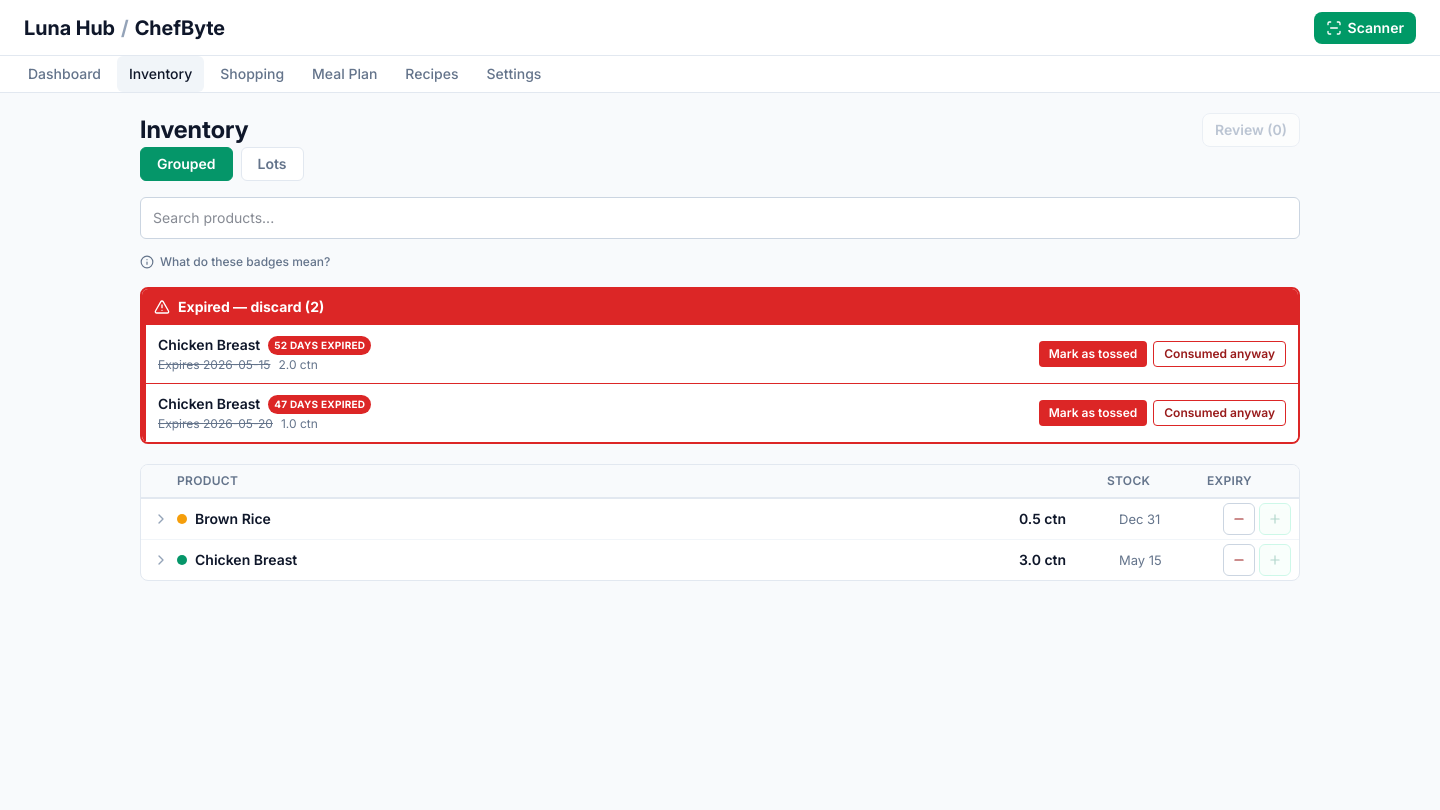
Test: InventoryPage — lot-view per-row rendering › each stock_lots row appears as a distinct lot-row element
Expected: the element with test id "inventory-view-toggle" is shown, 140,147 -> 304,181
Click the button "Lots".
click(272, 164)  # box 241,147 -> 304,181
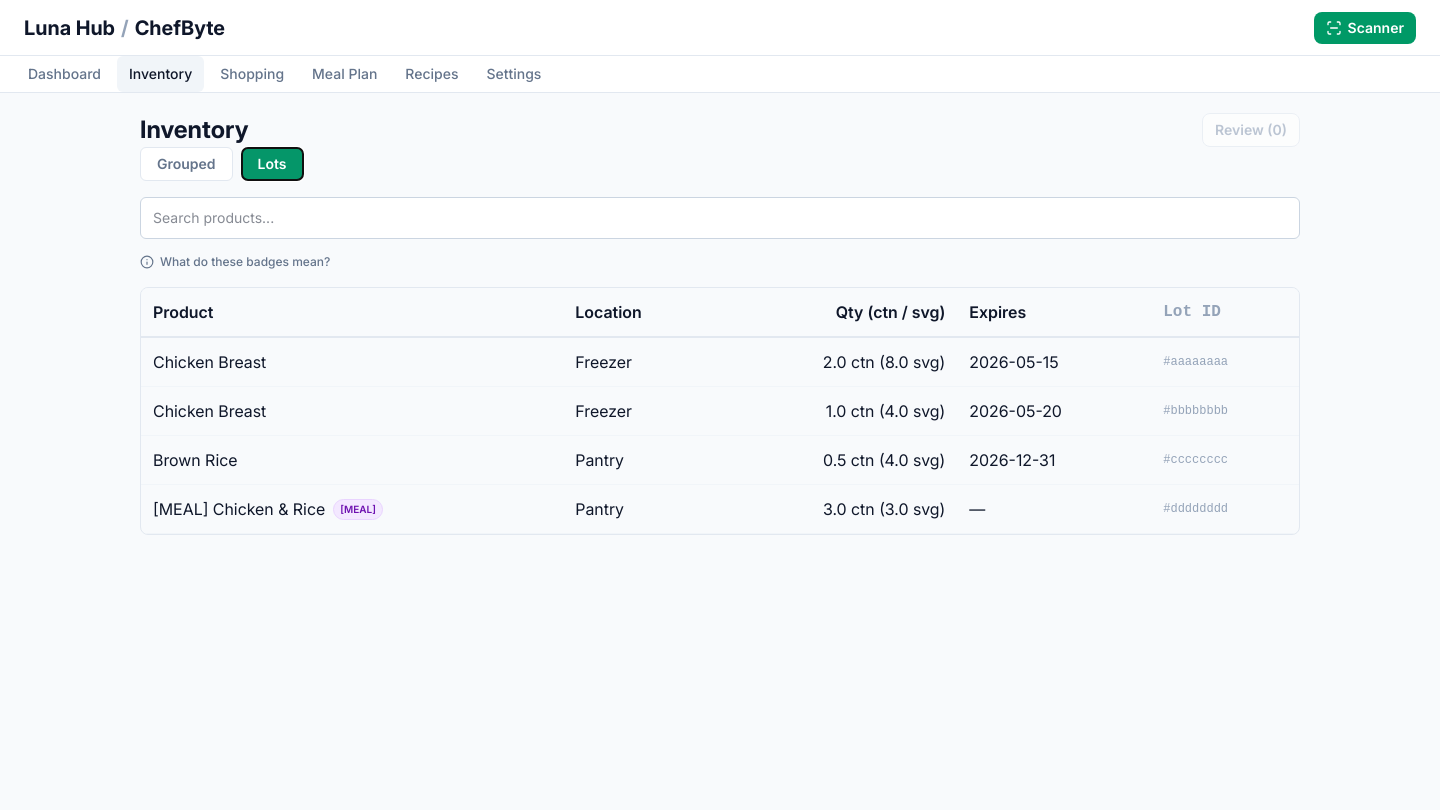
Expected: the element with test id "lots-view" is shown, 140,287 -> 1300,535
